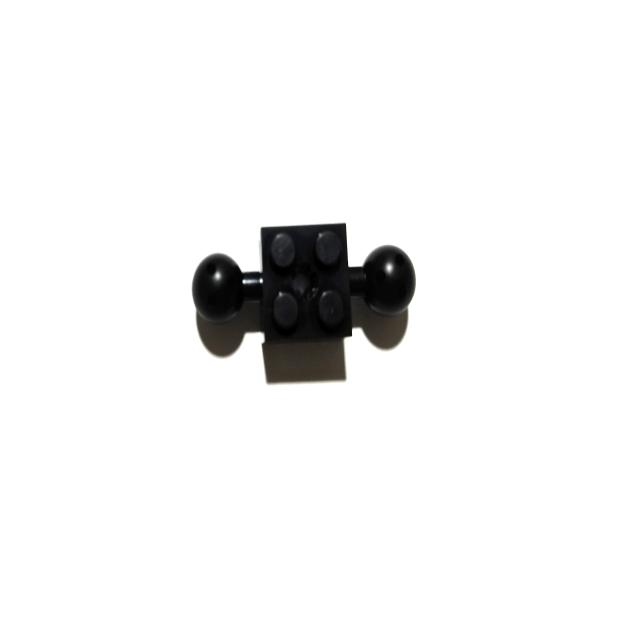Black_Small: (194, 224, 418, 346)
